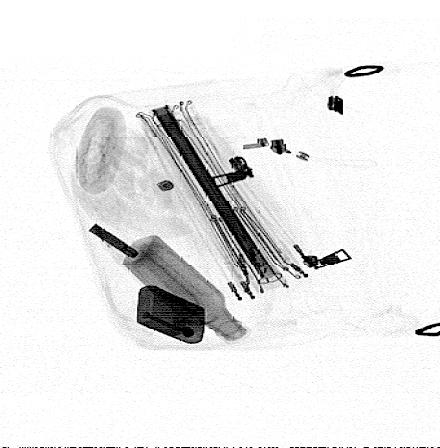Lighter: (137, 285, 206, 345)
